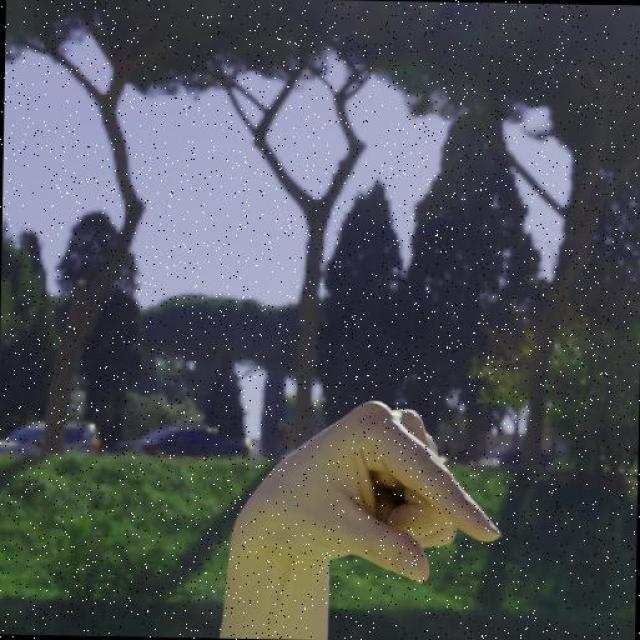Q: (229, 395, 502, 606)
